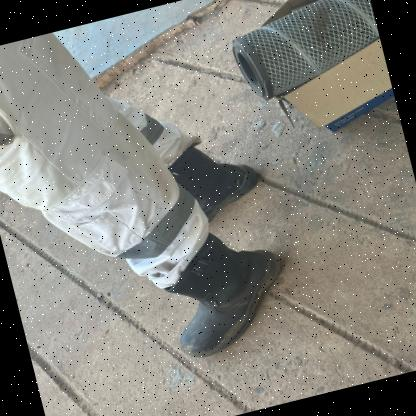bota: (131, 216, 301, 366), (164, 126, 269, 226)
